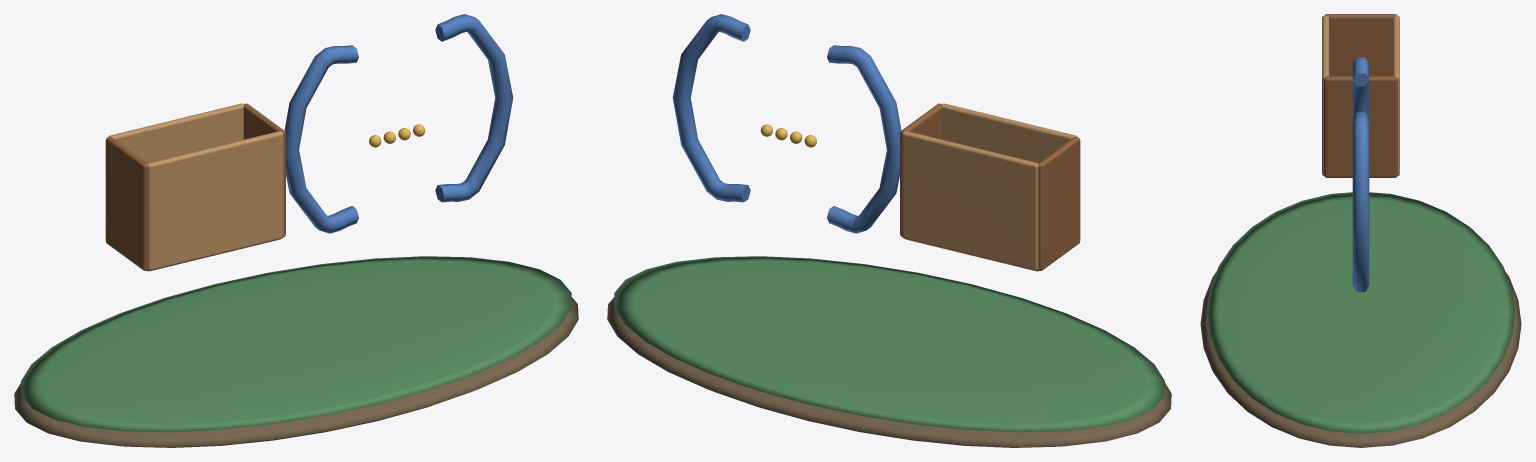
File: complete-second-package-includes.glb
3 views of the same model, side by side, from view 1: azimuth 30°, elevation 25°; view 2: azimuth 150°, elevation 25°; view 3: azimuth 270°, elevation 25° (orthographic). The views are drawn at different scales.
Visible parts, largest first — view 1: complete-second-package-includes_surface_01, complete-second-package-includes_surface_02, complete-second-package-includes_surface_00, complete-second-package-includes_surface_04, complete-second-package-includes_surface_03; view 2: complete-second-package-includes_surface_01, complete-second-package-includes_surface_02, complete-second-package-includes_surface_00, complete-second-package-includes_surface_04, complete-second-package-includes_surface_03; view 3: complete-second-package-includes_surface_01, complete-second-package-includes_surface_03, complete-second-package-includes_surface_00, complete-second-package-includes_surface_04, complete-second-package-includes_surface_02.
Boxes of the visible parts, x1,y1,x2,y2 form: complete-second-package-includes_surface_01: (21, 256, 571, 432); complete-second-package-includes_surface_02: (108, 103, 283, 270); complete-second-package-includes_surface_00: (14, 297, 578, 447); complete-second-package-includes_surface_04: (284, 14, 513, 233); complete-second-package-includes_surface_03: (105, 103, 285, 271); complete-second-package-includes_surface_01: (614, 256, 1164, 432); complete-second-package-includes_surface_02: (902, 103, 1077, 270); complete-second-package-includes_surface_00: (607, 297, 1171, 447); complete-second-package-includes_surface_04: (672, 14, 901, 233); complete-second-package-includes_surface_03: (900, 103, 1080, 271); complete-second-package-includes_surface_01: (1207, 192, 1514, 433); complete-second-package-includes_surface_03: (1324, 14, 1397, 177); complete-second-package-includes_surface_00: (1200, 272, 1521, 447); complete-second-package-includes_surface_04: (1352, 57, 1369, 292); complete-second-package-includes_surface_02: (1322, 15, 1399, 175).
Bounding box in the file's own units: 4.56 × 2.55 × 2.5.
